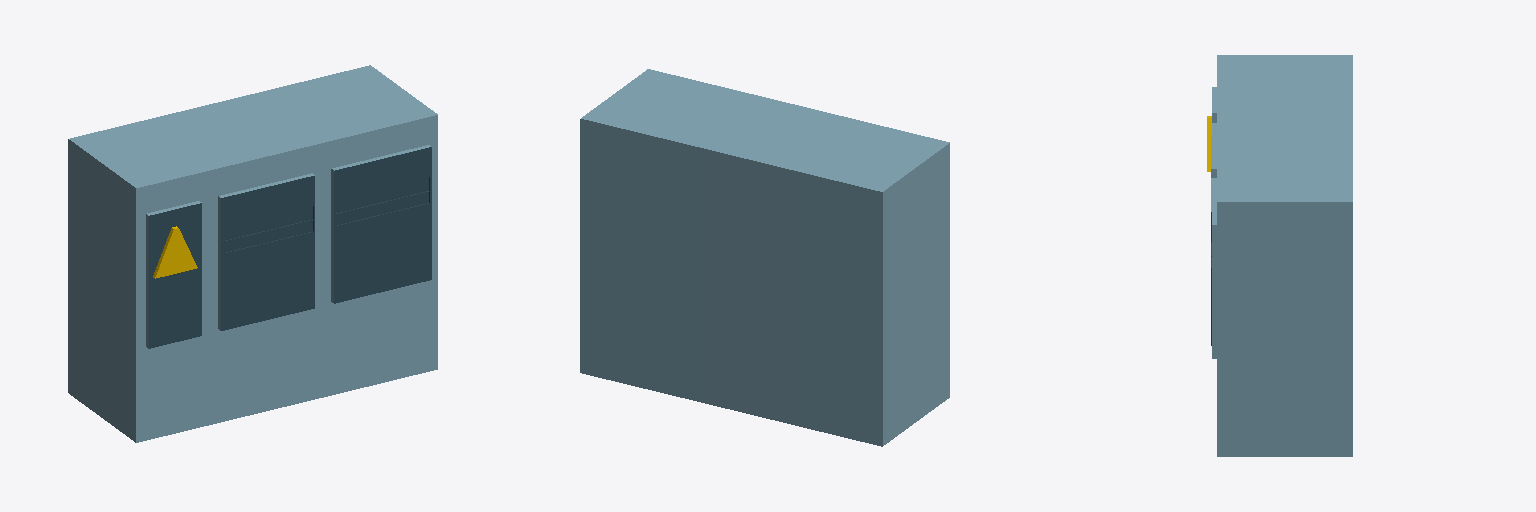
File: PowerGenerator_02.obj
The picture shows the model from 3 angles: view 1: azimuth 30°, elevation 25°; view 2: azimuth 150°, elevation 25°; view 3: azimuth 270°, elevation 25°; orthographic projection.
Parts seen in each view (by area): view 1: PowerGenerator_02_Cube.012; view 2: PowerGenerator_02_Cube.012; view 3: PowerGenerator_02_Cube.012.
Boxes of the visible parts, <box> form: PowerGenerator_02_Cube.012: <box>68,65,437,442</box>; PowerGenerator_02_Cube.012: <box>580,69,949,446</box>; PowerGenerator_02_Cube.012: <box>1207,55,1352,456</box>.
Size of the model in its own units: 8.95 by 7.21 by 3.75.